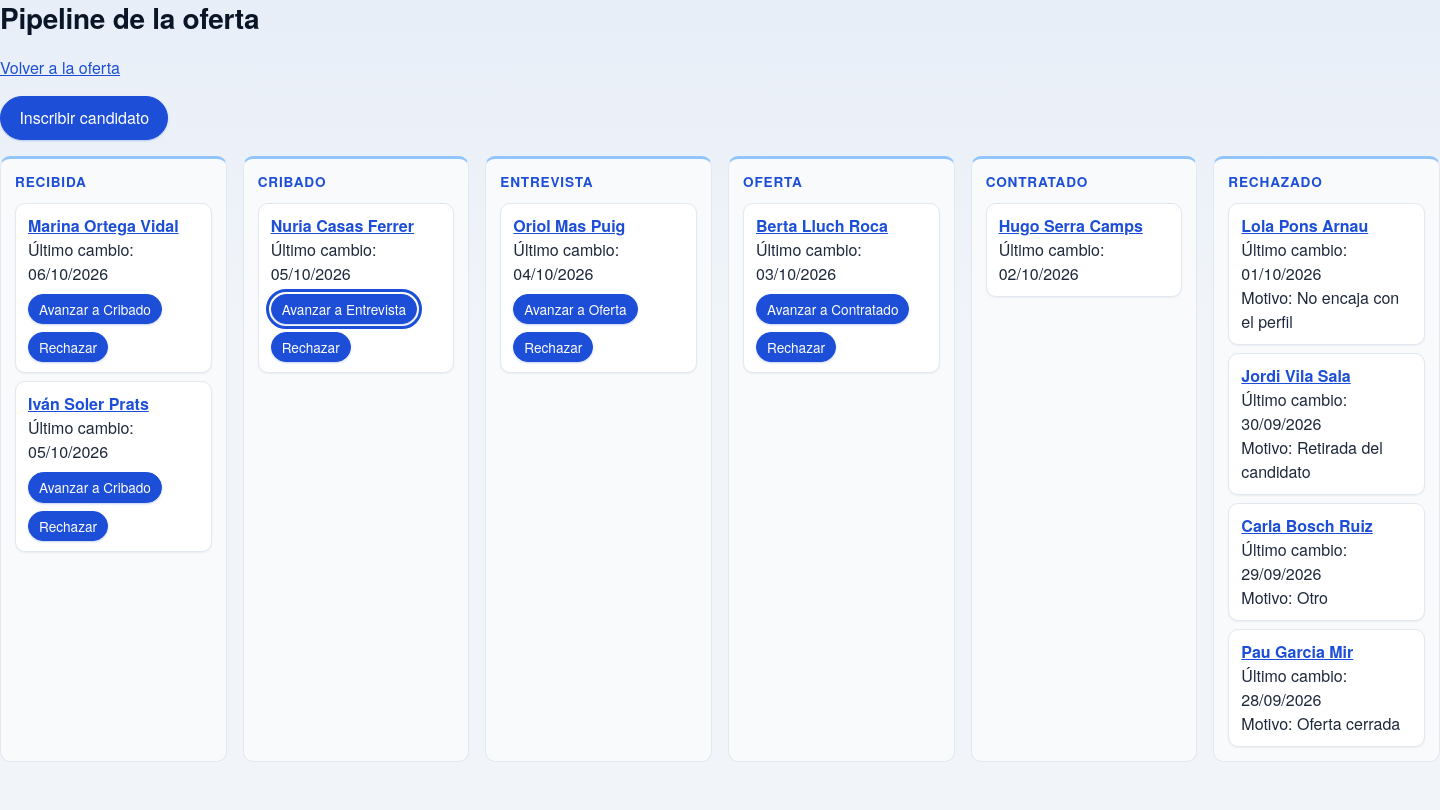
PipelineScreen: avanzar de etapa › CA-02 Avanzar a Entrevista → cuerpo {"expectedStage":"screening","toStage":"interview"}, aviso con foco (expectFocusOn) y tarjeta en Entrevista tras la recarga
Step 1. Click the button named "Avanzar a Entrevista: Nuria Casas Ferrer" → (344,309), box [271,294,417,324]
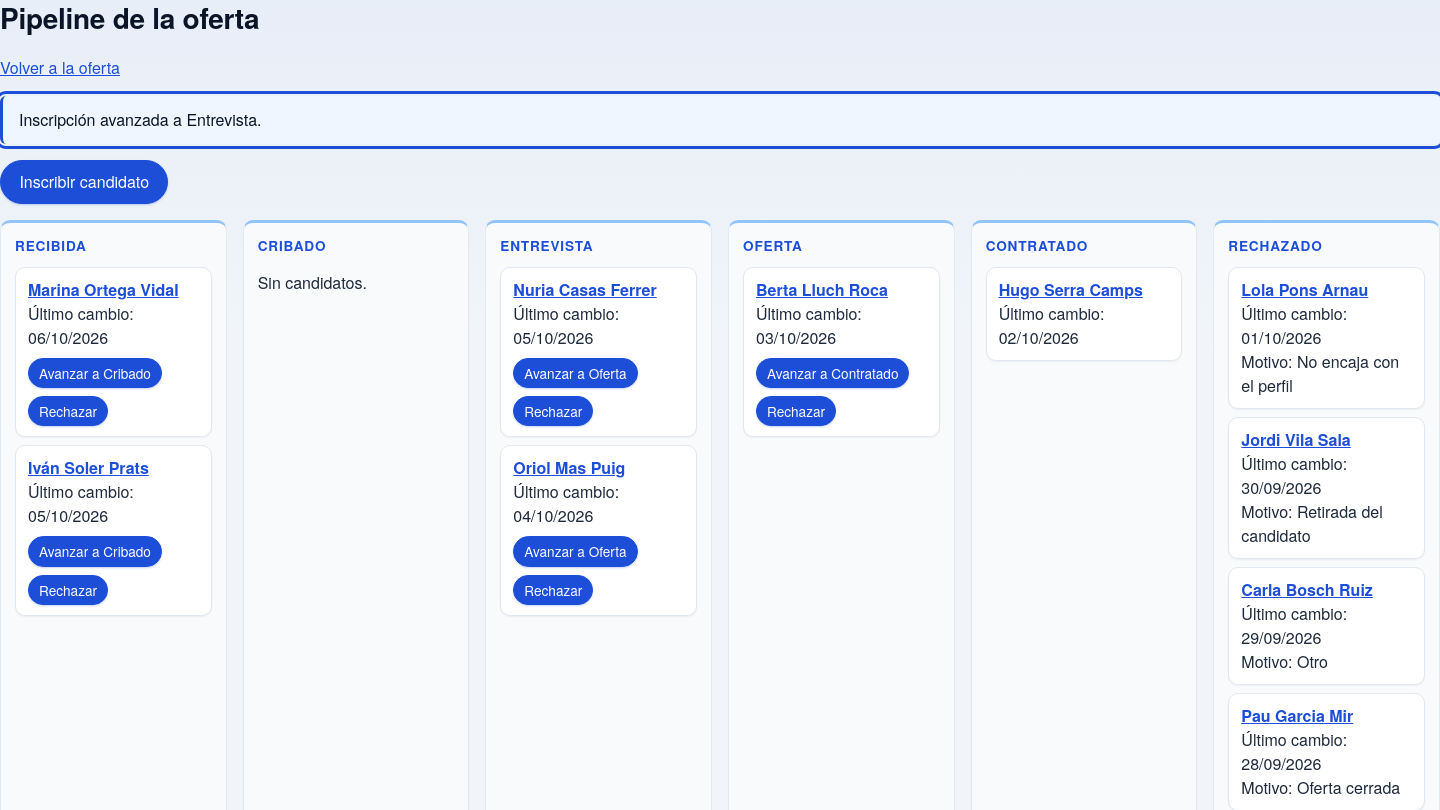
Expected: the link "Nuria Casas Ferrer" is shown, [513,278,657,301]
Result: the message reads "Inscripción avanzada a Entrevista." at [19,108,262,131]
